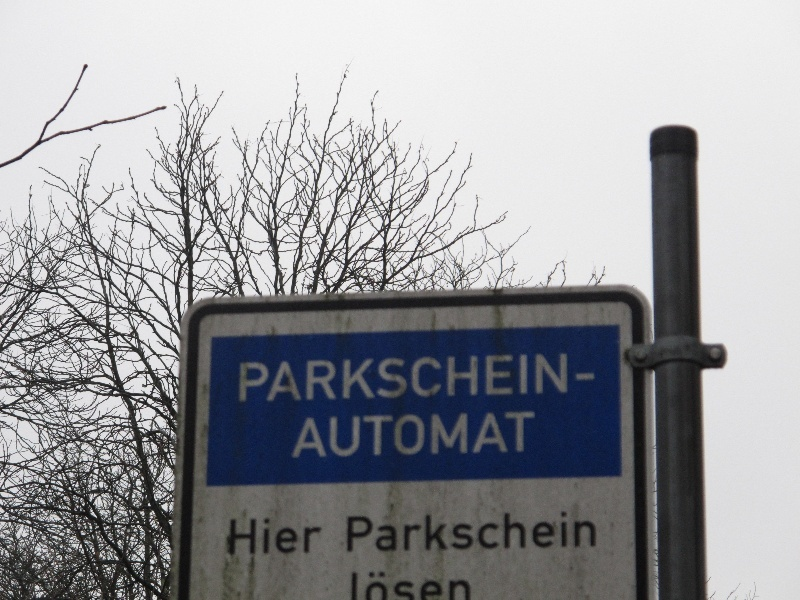text: (241, 352, 256, 407), (257, 352, 272, 407), (273, 352, 288, 407), (289, 352, 304, 407), (305, 352, 320, 407), (321, 352, 336, 407), (337, 352, 352, 407), (353, 352, 368, 407), (369, 352, 384, 407), (385, 352, 400, 407), (401, 352, 416, 407), (417, 352, 432, 407), (433, 352, 448, 407), (449, 352, 464, 407), (465, 352, 480, 407), (481, 352, 496, 407), (497, 352, 512, 407), (513, 352, 528, 407), (529, 352, 544, 407), (545, 352, 560, 407), (561, 352, 576, 407), (577, 352, 592, 407), (321, 412, 336, 459), (337, 412, 352, 459), (353, 412, 368, 459), (369, 412, 384, 459), (385, 412, 400, 459), (401, 412, 416, 459), (417, 412, 432, 459), (433, 412, 448, 459), (449, 412, 464, 459), (465, 412, 480, 459), (481, 412, 496, 459), (497, 412, 512, 459), (513, 412, 528, 459), (353, 512, 368, 553), (369, 512, 384, 553), (385, 512, 400, 553), (401, 512, 416, 553), (417, 512, 432, 553), (433, 512, 448, 553), (449, 512, 464, 553), (465, 512, 480, 553), (481, 512, 496, 553), (497, 512, 512, 553), (513, 512, 528, 553), (529, 512, 544, 553), (545, 512, 560, 553), (561, 512, 576, 553), (577, 512, 592, 553), (305, 518, 321, 554), (308, 412, 320, 459), (241, 518, 256, 554), (257, 518, 272, 554), (273, 518, 288, 554), (289, 518, 304, 554), (353, 570, 368, 599), (369, 570, 384, 599), (385, 570, 400, 599), (401, 570, 416, 599), (417, 570, 432, 599), (433, 570, 448, 599), (449, 570, 464, 599), (529, 412, 536, 459), (232, 518, 240, 554), (348, 512, 352, 553), (593, 512, 597, 553), (465, 570, 470, 599), (593, 352, 595, 407), (239, 352, 240, 407)
